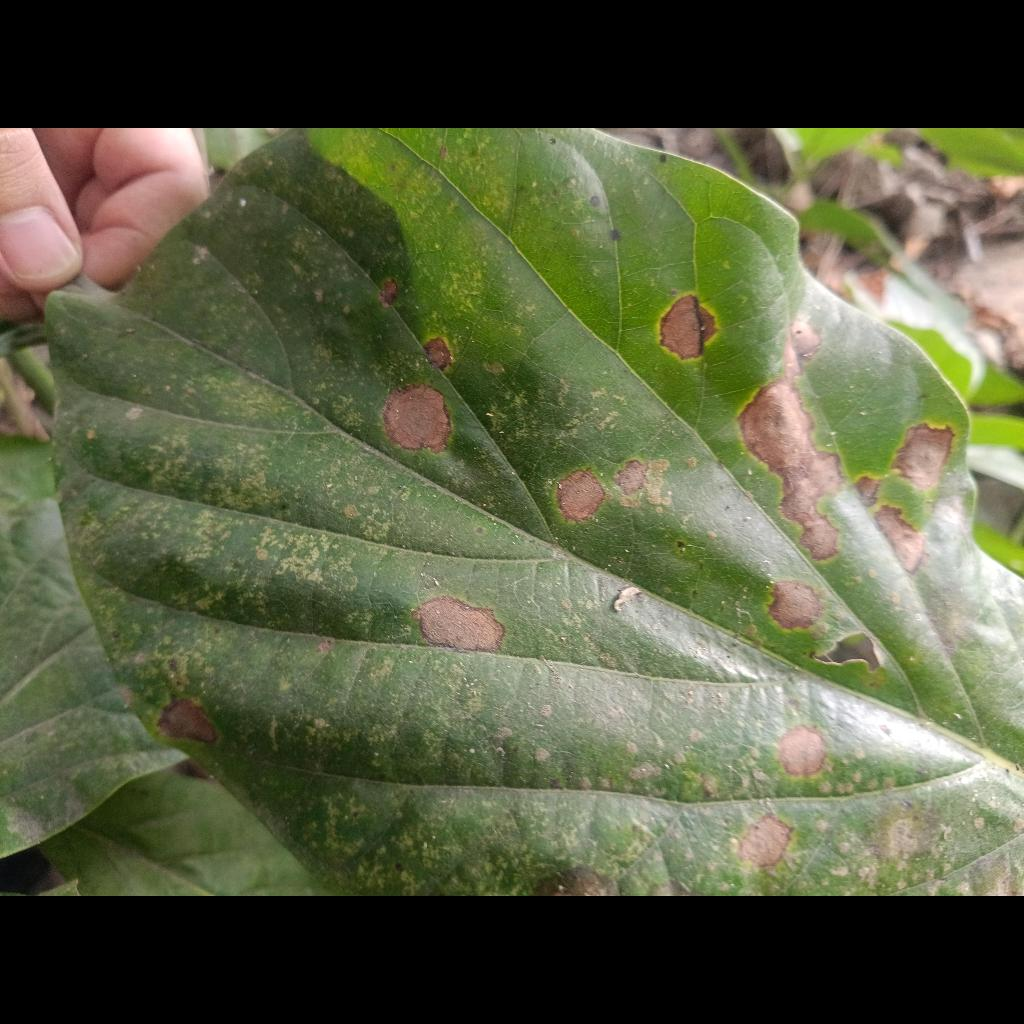antracnosis_hoja: (46, 128, 1024, 896)
